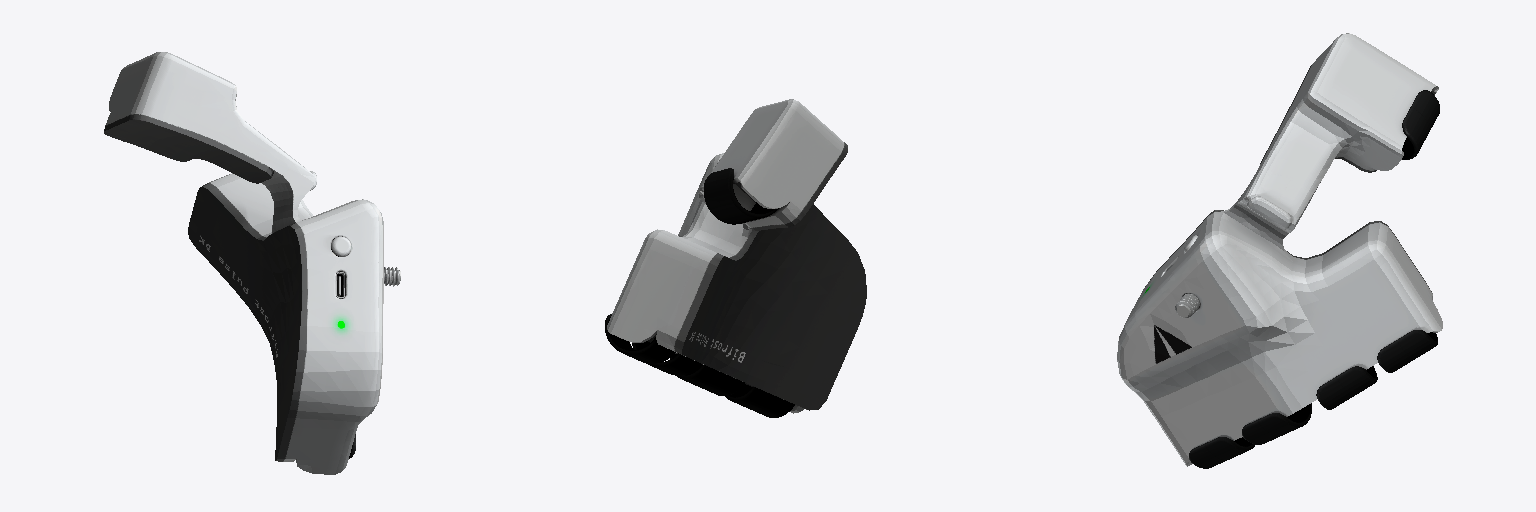
3 views of the same model, side by side, from view 1: azimuth 30°, elevation 25°; view 2: azimuth 150°, elevation 25°; view 3: azimuth 270°, elevation 25° (orthographic).
Parts seen in each view (by area): view 1: Single_Object; view 2: Single_Object; view 3: Single_Object.
Boxes of the visible parts, x1,y1,x2,y2 form: Single_Object: [104, 52, 400, 474]; Single_Object: [605, 99, 866, 417]; Single_Object: [1117, 33, 1442, 468].
Bounding box in the file's own units: 0.0768 × 0.1391 × 0.1061.
1 materials, 1 textured.